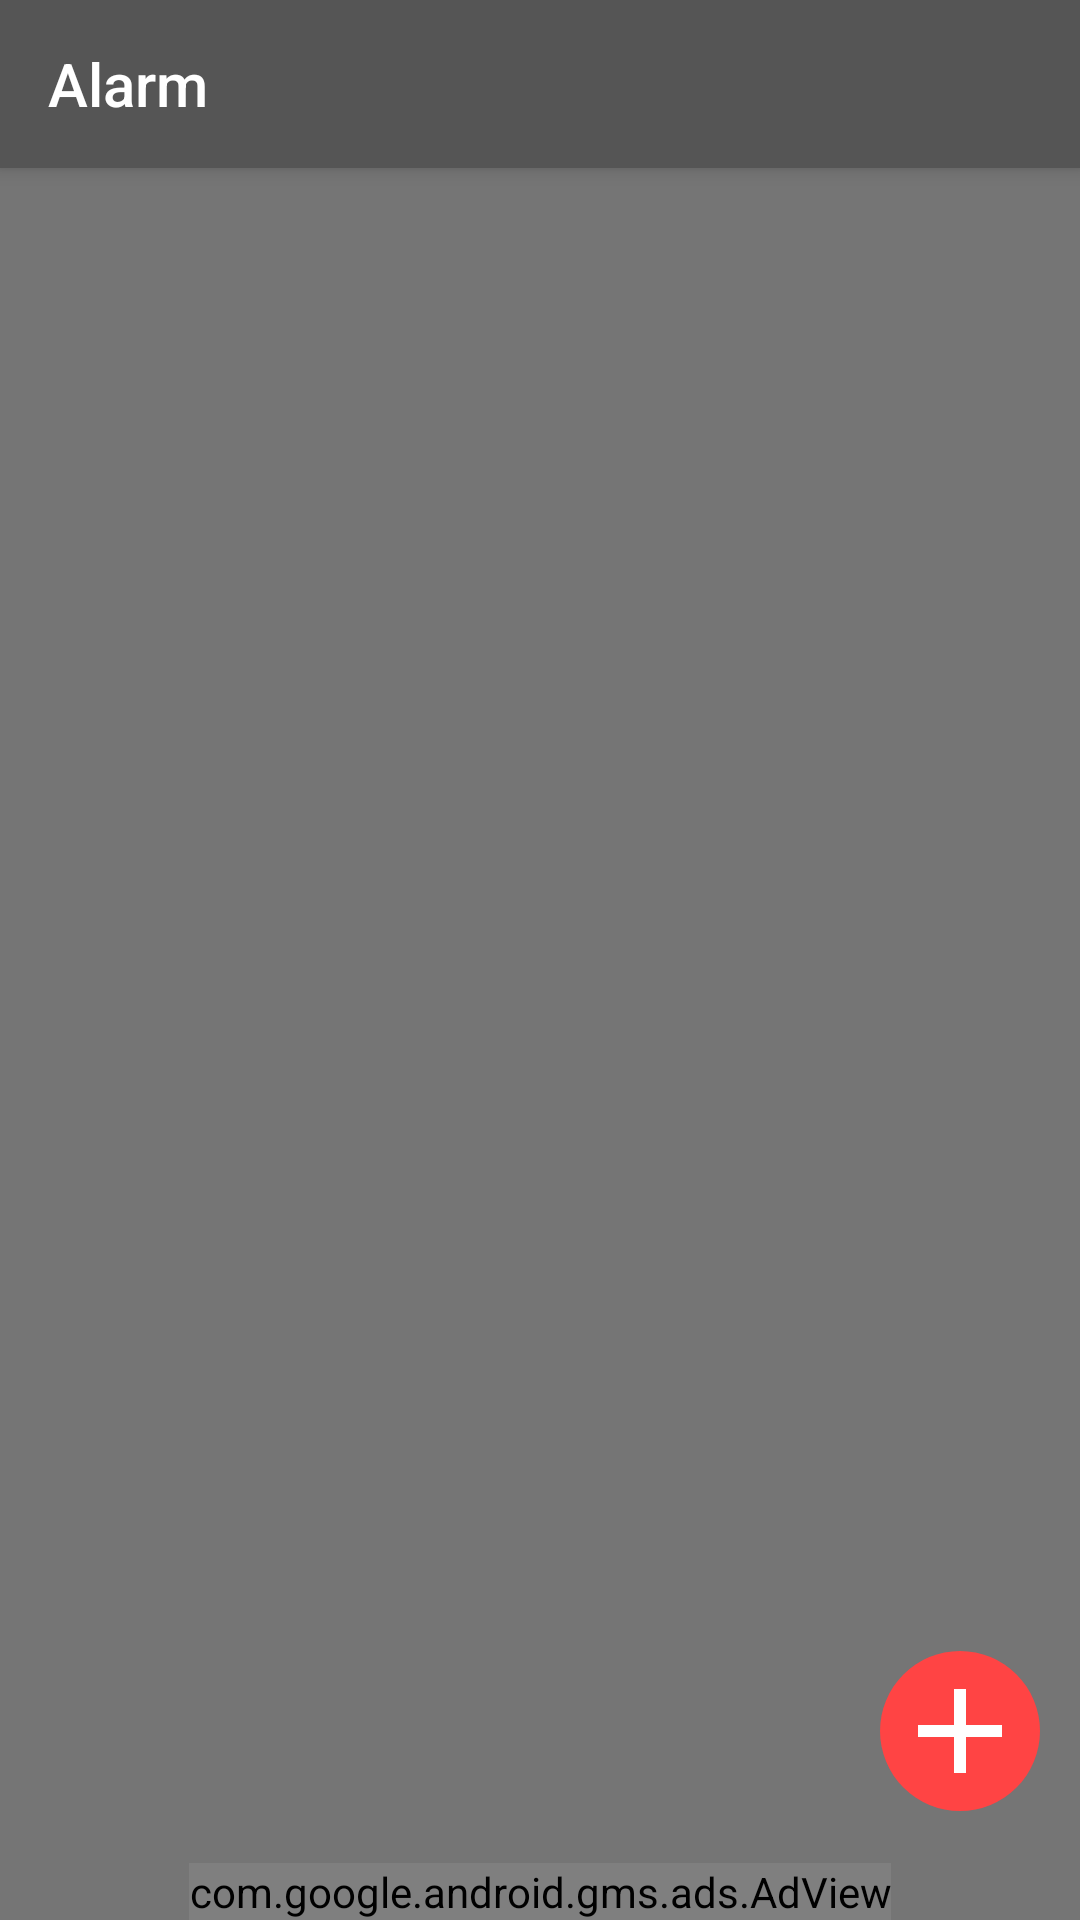

Screen size 1080px×1920px. Icon name, then its center in pixels as [x,y]:
add: [960,1731]
